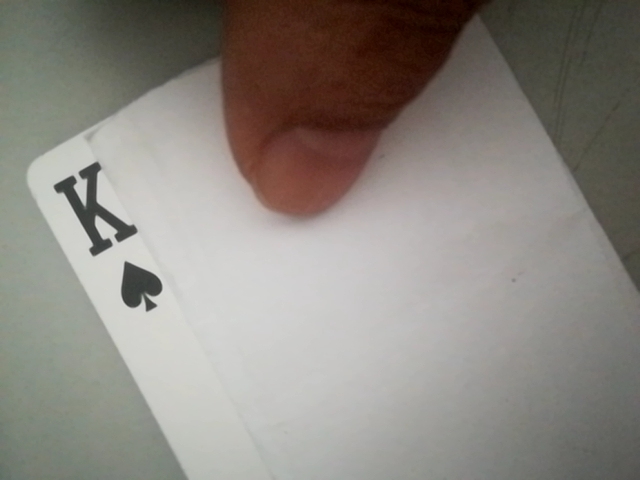ht k: (38, 143, 179, 324)
